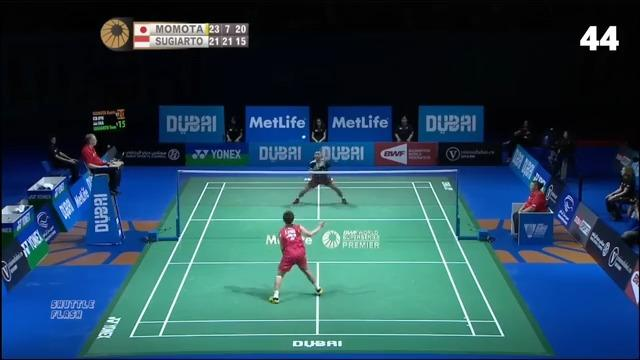Shuttlecock: (300, 134, 310, 142)
